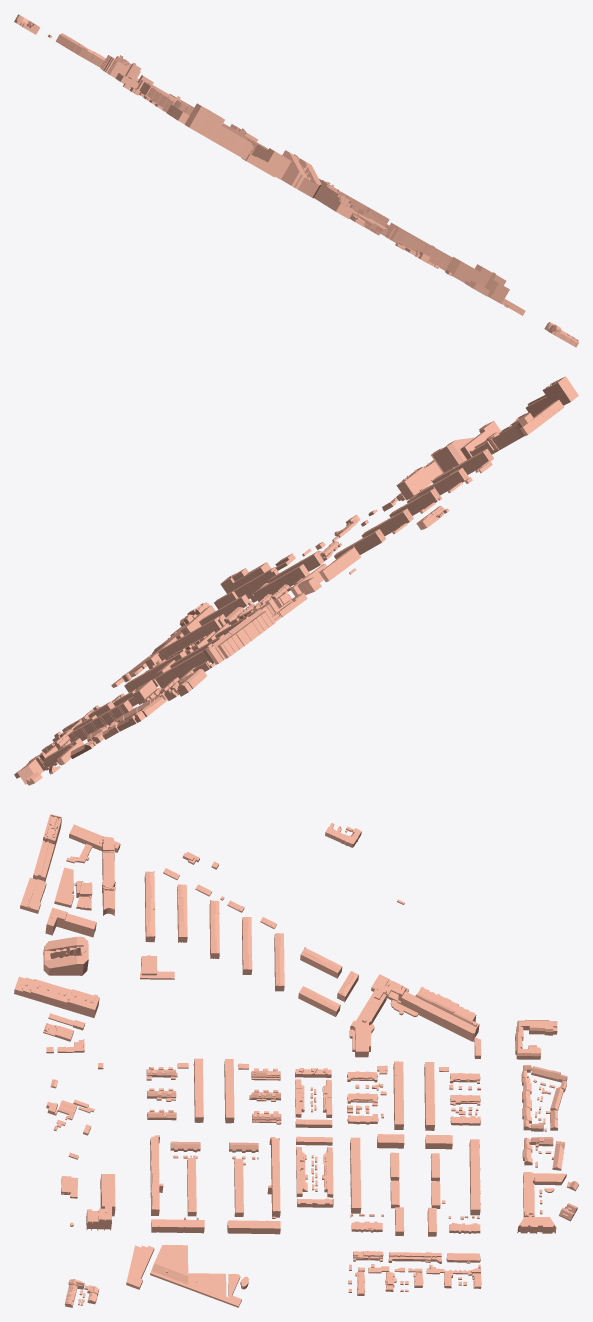
3 renders of one model, top to bottom at view 1: azimuth 30°, elevation 25°; view 2: azimuth 150°, elevation 25°; view 3: azimuth 270°, elevation 25°, orthographic. The views are drawn at different scales.
Size of the model in its own units: 514 by 409 by 648.
